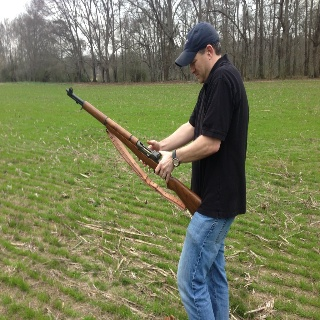rifle: (64, 86, 201, 218)
